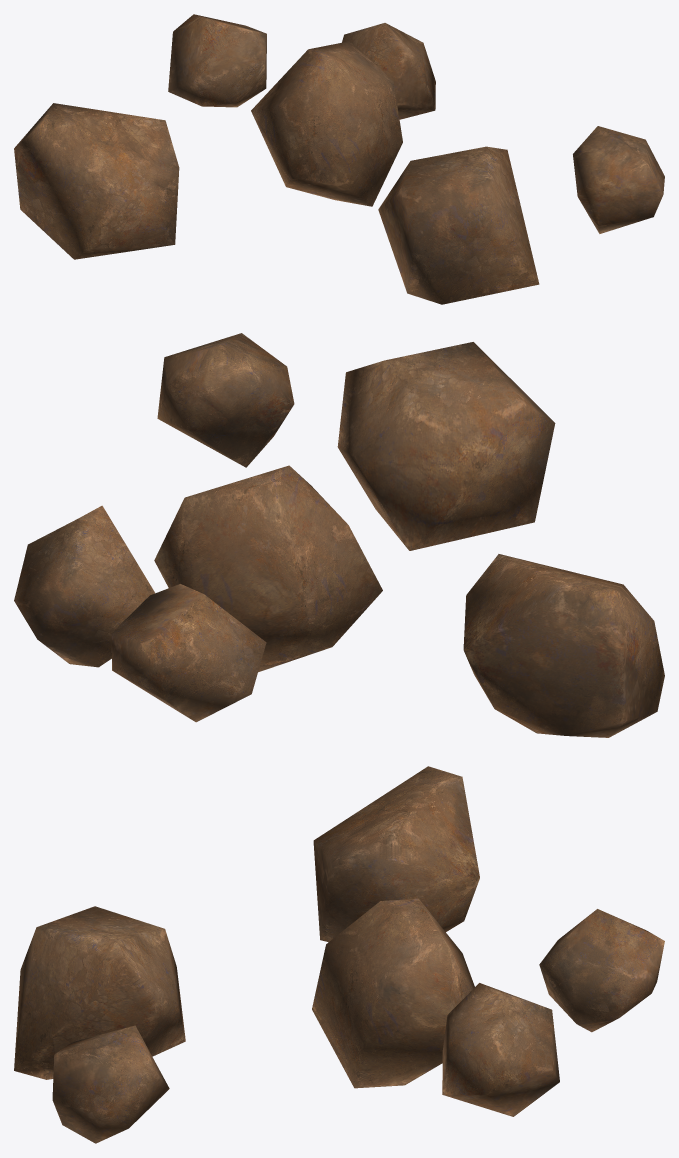
The model's file is Stones_Tiny3.fbx.
3 views of the same model, one above another, from view 1: azimuth 30°, elevation 25°; view 2: azimuth 150°, elevation 25°; view 3: azimuth 270°, elevation 25° (orthographic). The views are drawn at different scales.
Visible parts, largest first — view 1: polySurface222; view 2: polySurface222; view 3: polySurface222.
Boxes of the visible parts, x1,y1,x2,y2 form: polySurface222: [14, 14, 664, 304]; polySurface222: [14, 333, 664, 737]; polySurface222: [14, 766, 664, 1143].
Size of the model in its own units: 26.27 by 7.66 by 25.65.
